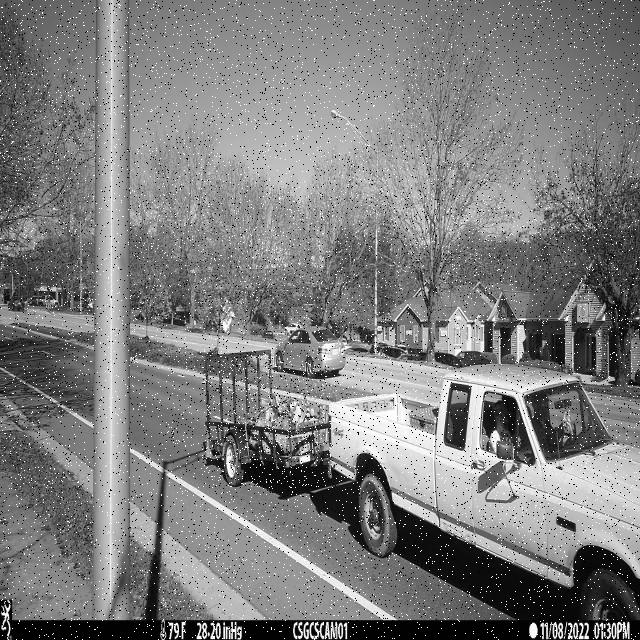Box Truck: (202, 350, 331, 488)
Pickup: (328, 364, 640, 623)
